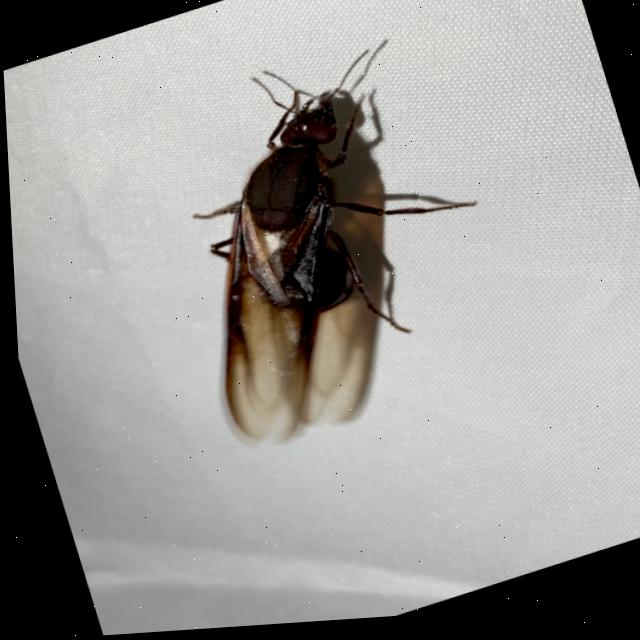Alive-Female-Alate: (131, 25, 525, 465)
